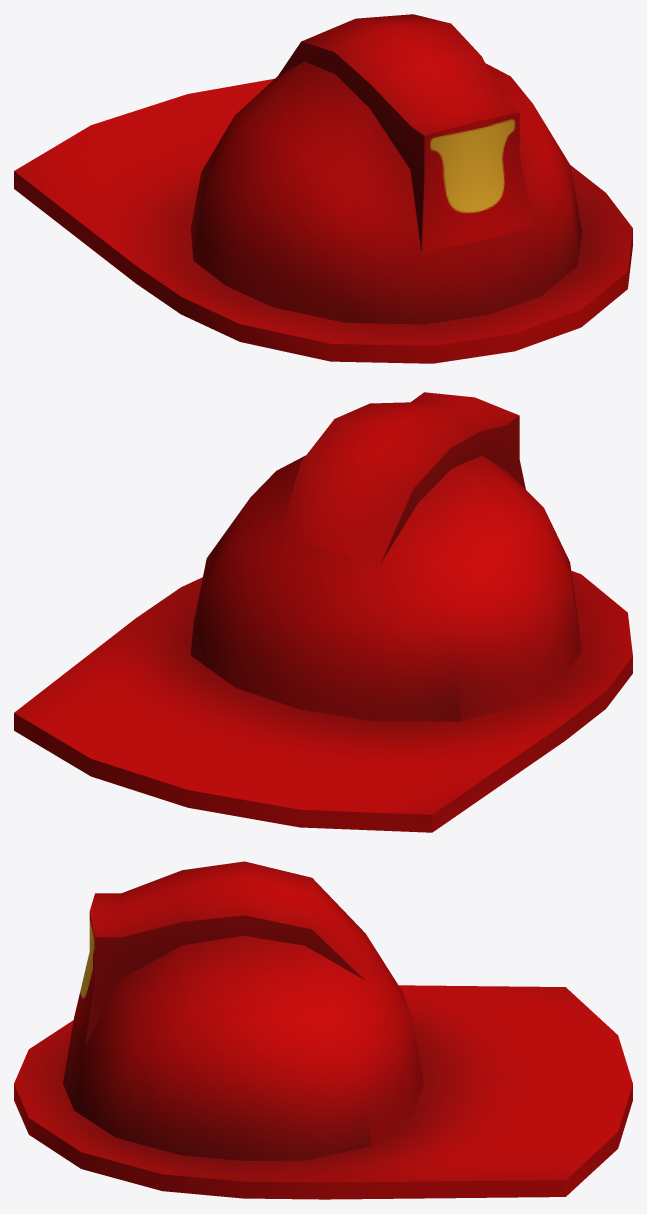
File: m_FirefighterHat01.obj
The picture shows the model from 3 angles, top to bottom: view 1: azimuth 30°, elevation 25°; view 2: azimuth 150°, elevation 25°; view 3: azimuth 270°, elevation 25°; orthographic projection. The views are drawn at different scales.
Visible parts, largest first — view 1: m_FirefighterHat01_mat_FirefighterHat01; view 2: m_FirefighterHat01_mat_FirefighterHat01; view 3: m_FirefighterHat01_mat_FirefighterHat01.
Part boxes in pixels (x1,y1,x2,y2): m_FirefighterHat01_mat_FirefighterHat01: (14,14,632,363); m_FirefighterHat01_mat_FirefighterHat01: (14,392,632,832); m_FirefighterHat01_mat_FirefighterHat01: (14,861,632,1199).
Bounding box in the file's own units: 0.7193 × 0.3739 × 0.9493.
Materials: 1 (1 with a texture image).
